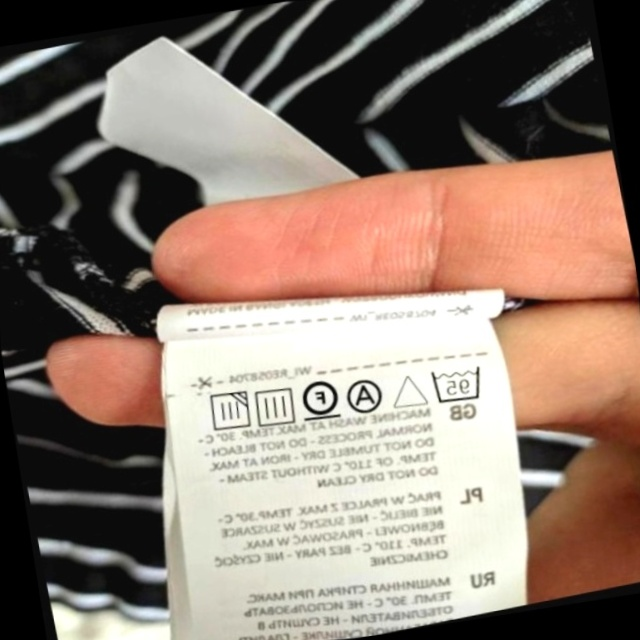95C: (424, 358, 489, 410)
bleach: (387, 365, 432, 415)
drip_dry: (248, 380, 302, 432)
drip_dry_in_shade: (200, 384, 255, 439)
dry_clean: (342, 373, 389, 418)
dry_clean_petrol_only: (295, 371, 345, 426)
